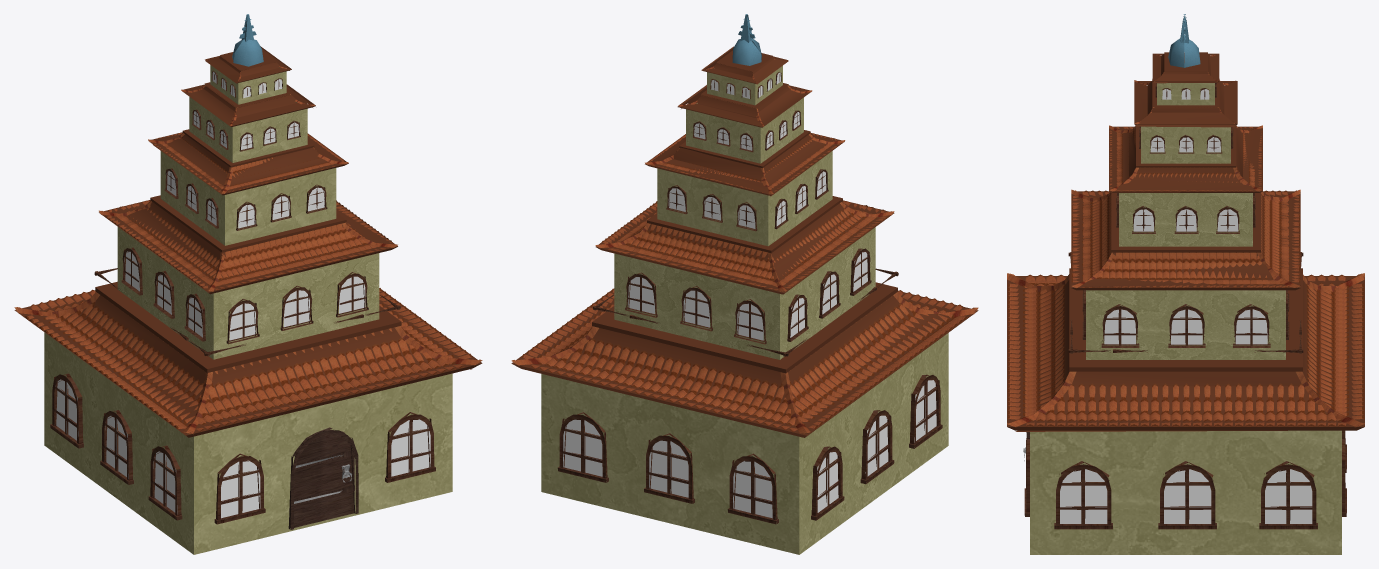
File: Story02_큰소망유치원.fbx
The picture shows the model from 3 angles, left to right: view 1: azimuth 30°, elevation 25°; view 2: azimuth 150°, elevation 25°; view 3: azimuth 270°, elevation 25°; orthographic projection. The views are drawn at different scales.
Visible parts, largest first — view 1: Story02_큰소망유치원; view 2: Story02_큰소망유치원; view 3: Story02_큰소망유치원.
Boxes of the visible parts, x1,y1,x2,y2 form: Story02_큰소망유치원: [14, 14, 482, 554]; Story02_큰소망유치원: [511, 14, 978, 554]; Story02_큰소망유치원: [1007, 14, 1364, 554].
Size of the model in its own units: 4393 by 6436 by 4400.
5 materials, 5 textured.
